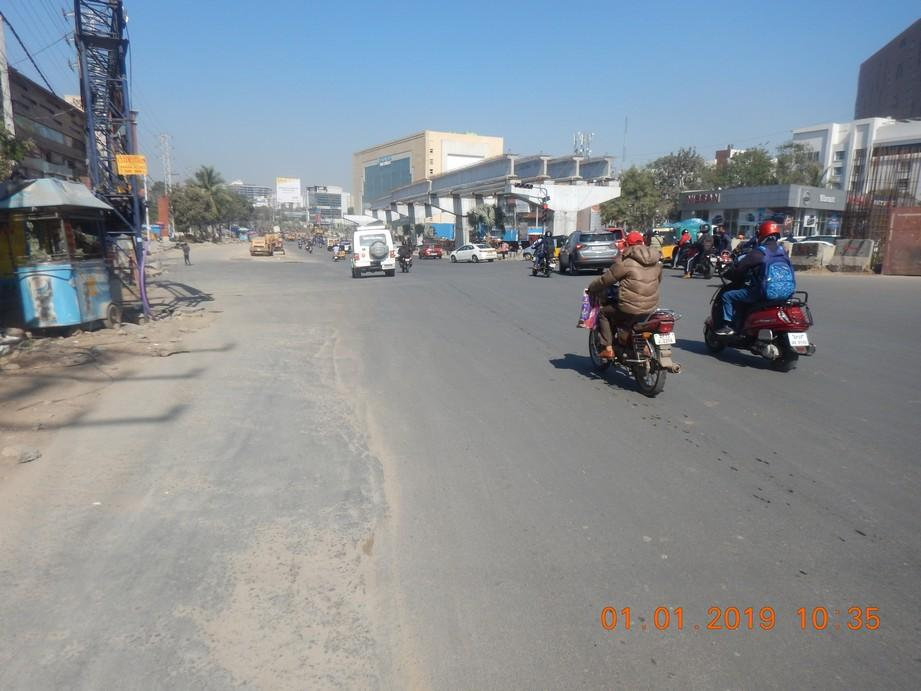plate: (653, 331, 676, 345)
